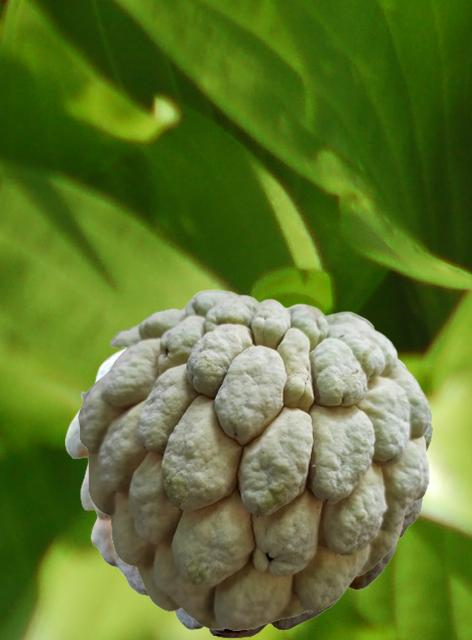atis: (77, 289, 429, 629), (65, 348, 431, 637)
